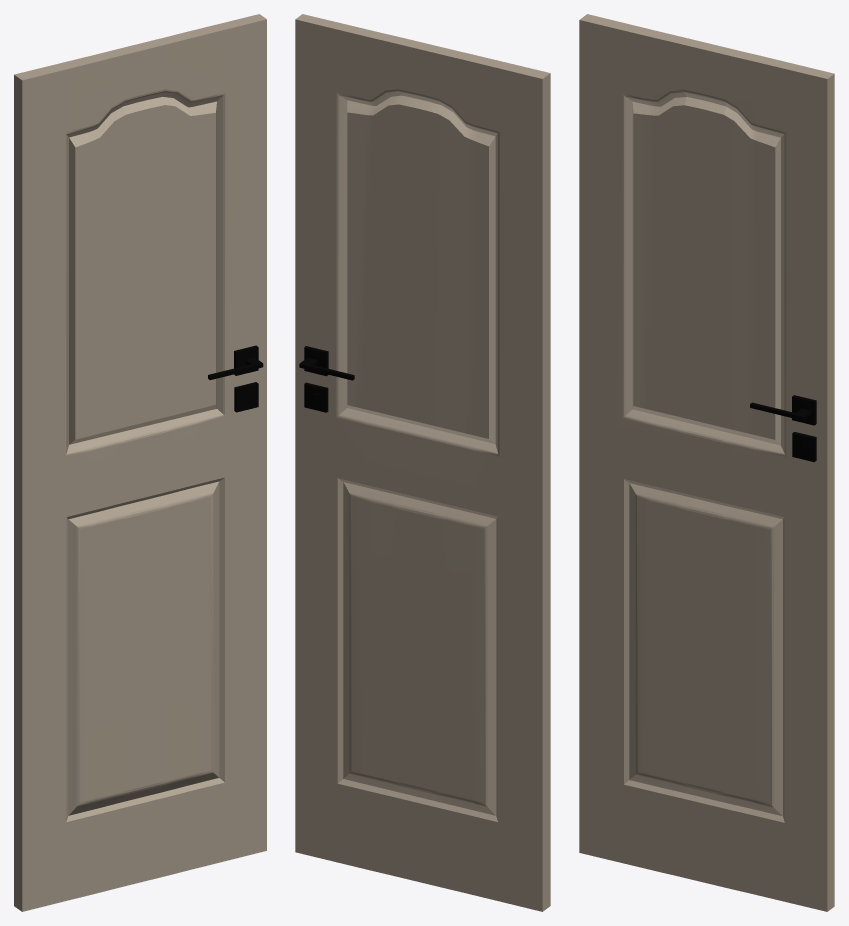
Rendered from SC_2_3b_door.glb.
3 renders of one model, left to right at view 1: azimuth 30°, elevation 25°; view 2: azimuth 150°, elevation 25°; view 3: azimuth 330°, elevation 25°, orthographic.
Parts seen in each view (by area): view 1: SC_2__3b_door_; view 2: SC_2__3b_door_; view 3: SC_2__3b_door_.
Part boxes in pixels (x1,y1,x2,y2): SC_2__3b_door_: [14, 14, 266, 911]; SC_2__3b_door_: [295, 14, 550, 911]; SC_2__3b_door_: [579, 14, 834, 911].
Bounding box in the file's own units: 0.5514 × 1.78 × 0.1058.
1 material, 1 textured.
